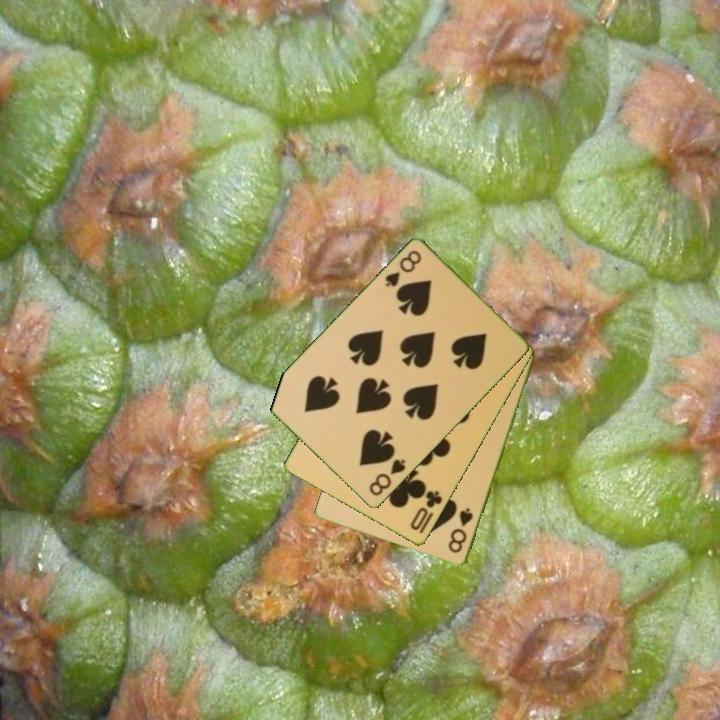10c: (407, 487, 445, 534)
8s: (366, 456, 409, 499), (381, 247, 424, 290), (445, 504, 476, 556)
